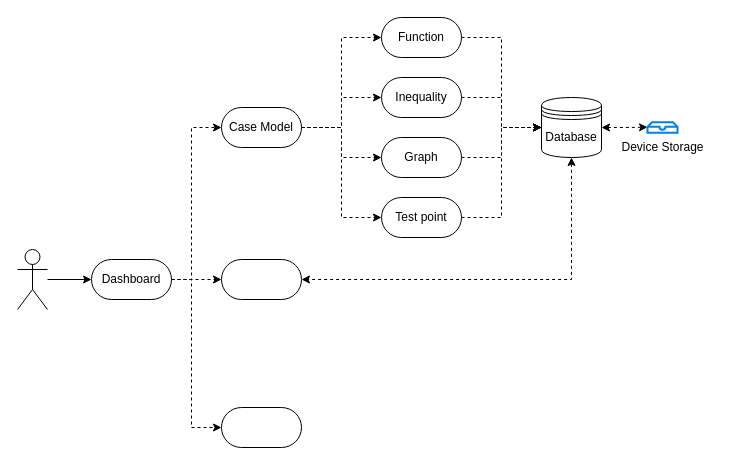
This 730x465 diagram has some shape labels left out. The shapes that lost their labels are listed below. From the top down, each one's box as (x1, y1, x2, y2) in pixels, then its label:
(16, 248, 48, 310): Actor
(220, 258, 302, 300): Case History
(220, 406, 302, 448): Exit
